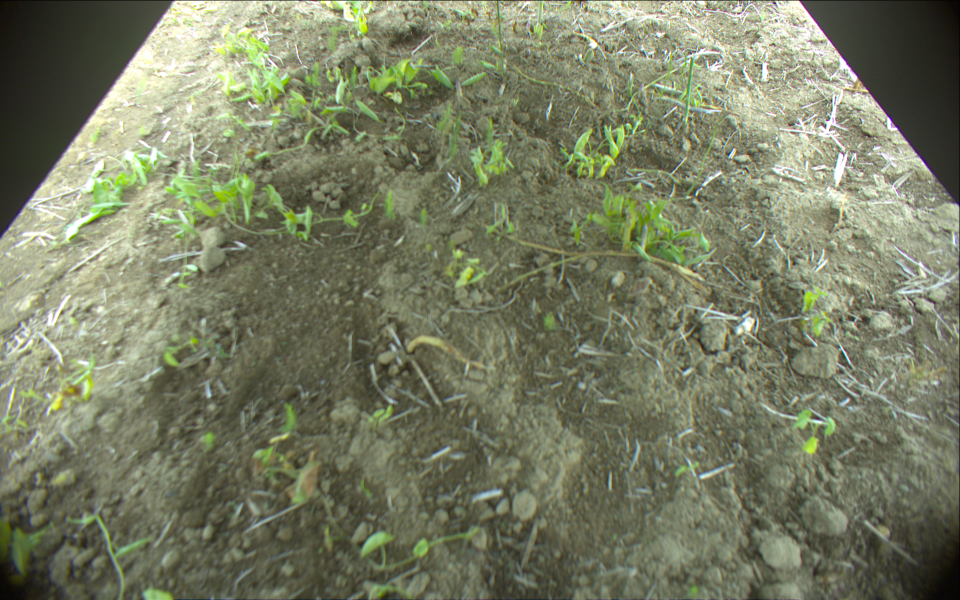aspa: (681, 55, 698, 121), (496, 1, 506, 51), (537, 1, 545, 30)
